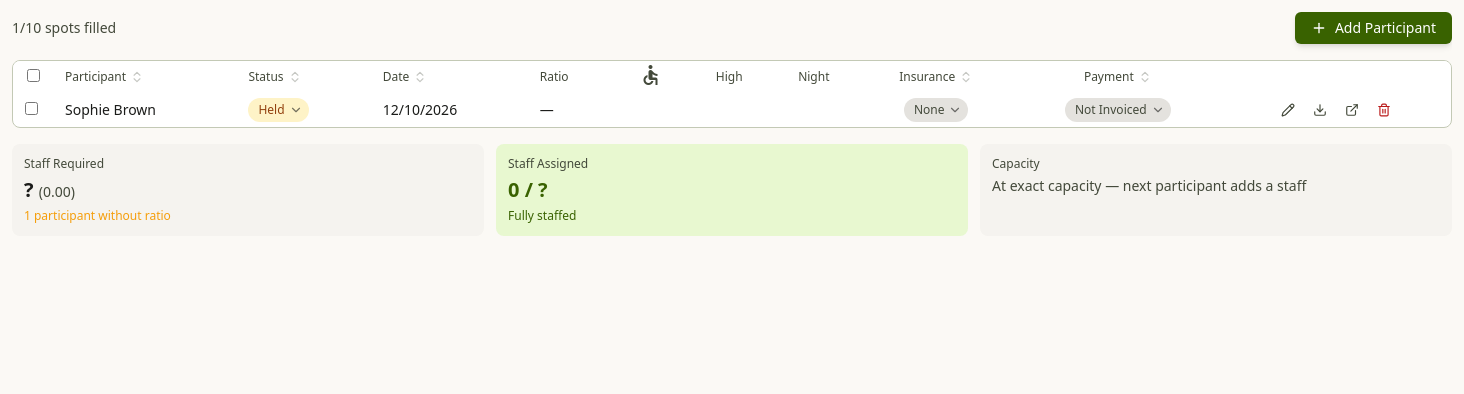
Test case: BookingsTab — the budget warning of a booking just confirmed › shows nothing when the server sent no warning, and can be dismissed when it did
Click the button "Held". click: [279, 110]
box: [248,98,309,122]
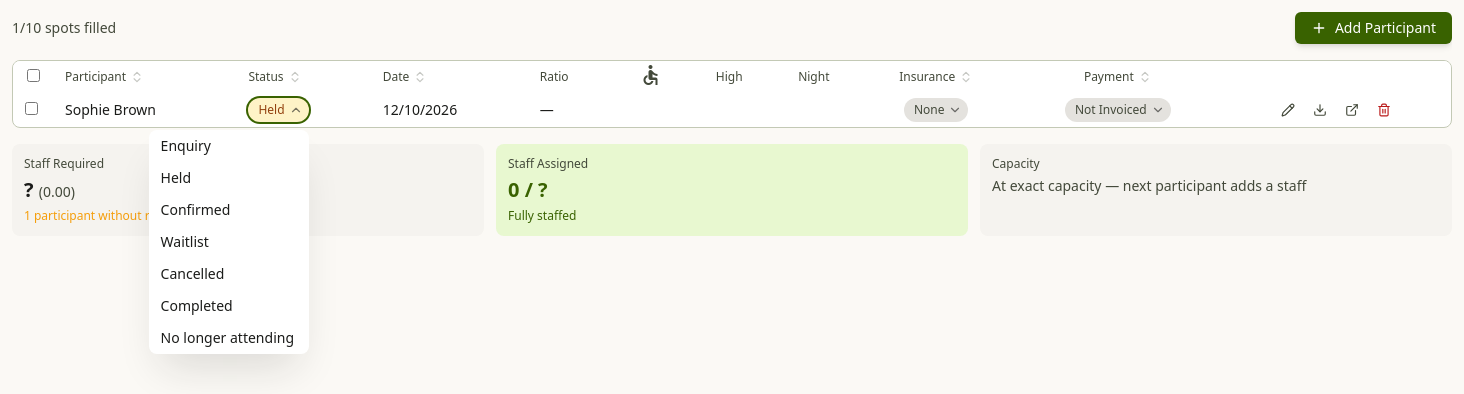
Click the option "Confirmed". click: [196, 210]
box: [161,200,230,219]
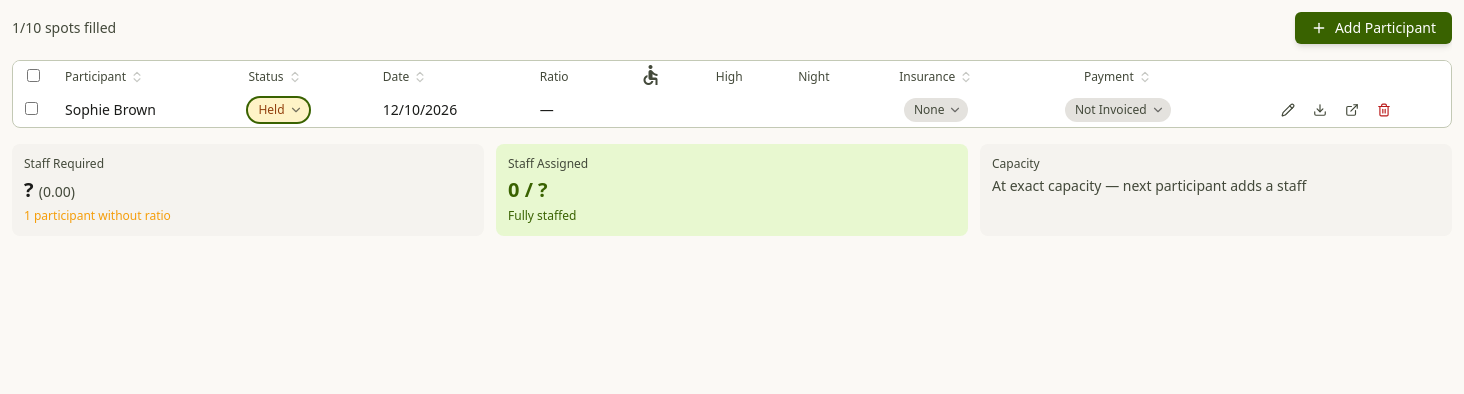
Expected: the text "Over budget" is not shown
Click the button "Held". click: [279, 110]
box: [248,98,309,122]
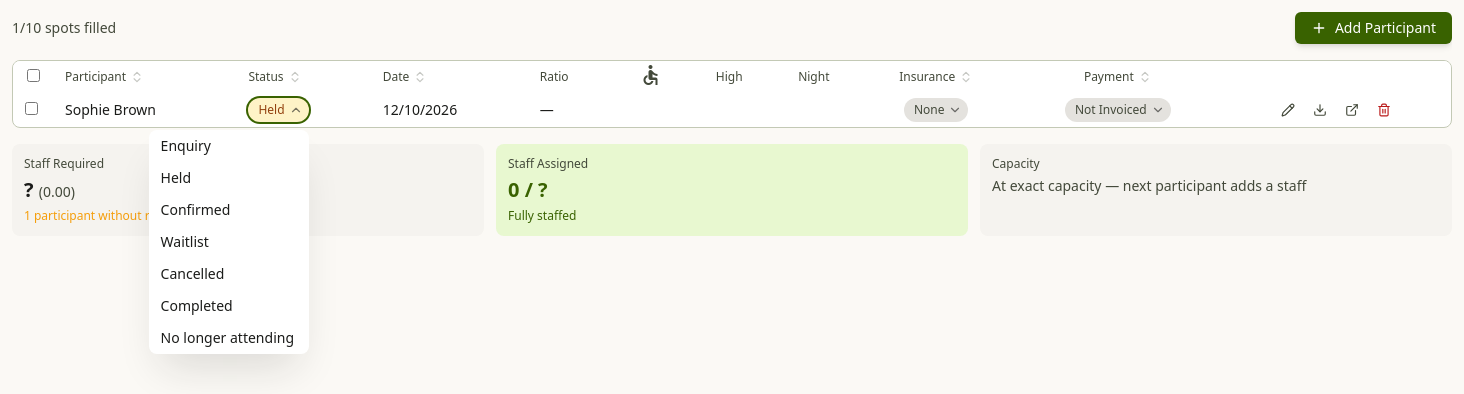
Click the option "Confirmed". click: [196, 210]
box: [161,200,230,219]
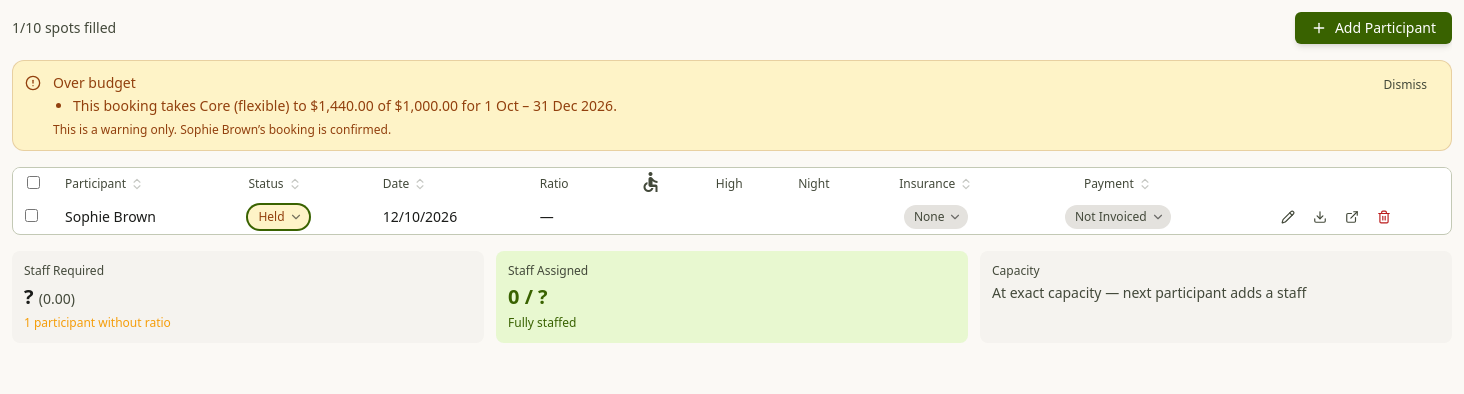
Click the button "Dismiss". click: [1405, 85]
box: [1372,73,1439,97]
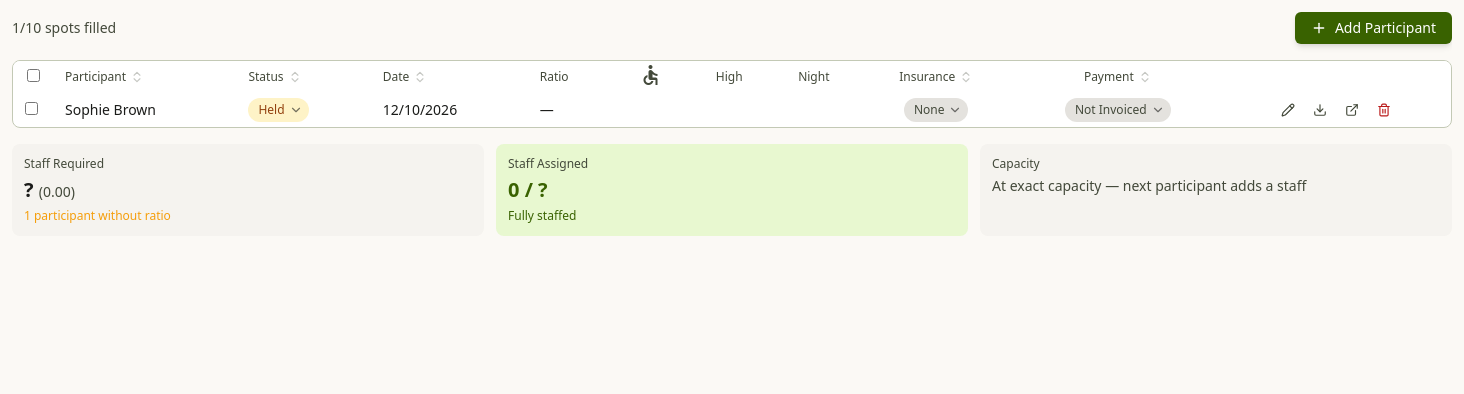
Result: the text "Over budget" is gone
